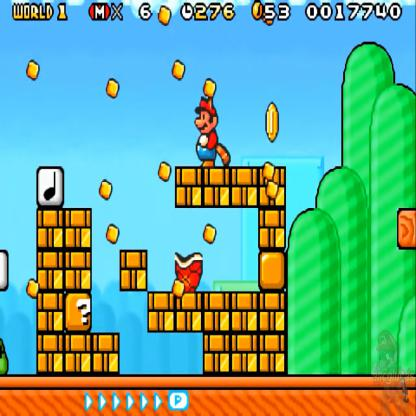Mario: (192, 94, 227, 166)
caparazon: (173, 246, 206, 295)
moneda: (264, 97, 282, 143), (251, 0, 265, 23)
